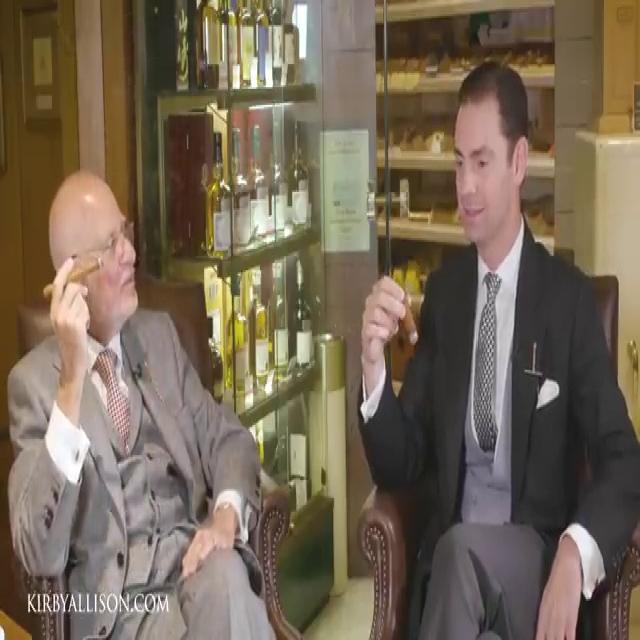Smooking: (40, 245, 111, 308), (400, 301, 424, 356)
